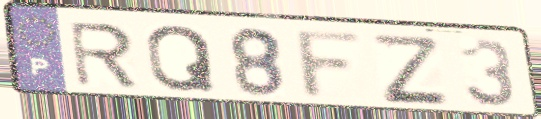3: (455, 37, 517, 110)
8: (227, 25, 287, 99)
F: (292, 27, 368, 102)
Q: (144, 23, 220, 95)
R: (65, 20, 142, 90)
Z: (367, 31, 452, 105)
